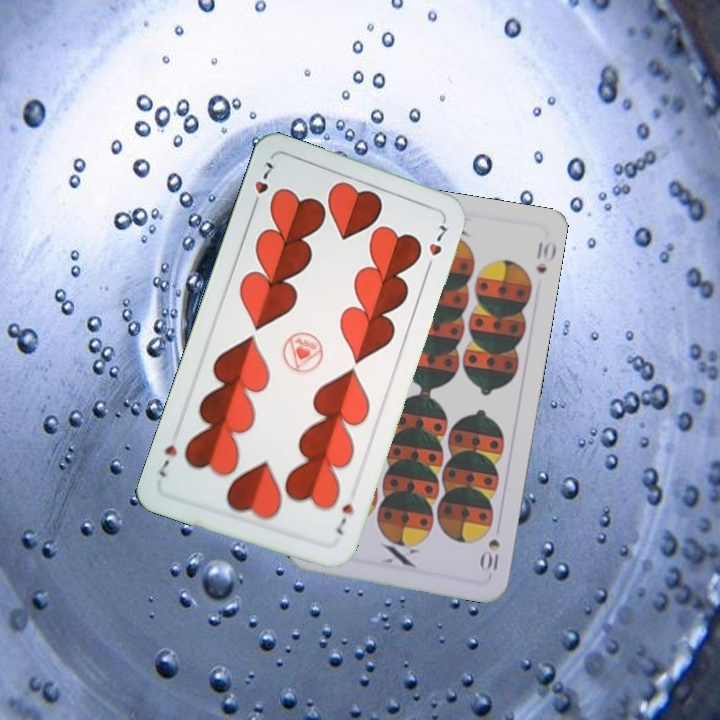H7: (247, 158, 278, 213), (331, 499, 357, 538)
S10: (477, 535, 503, 575)
